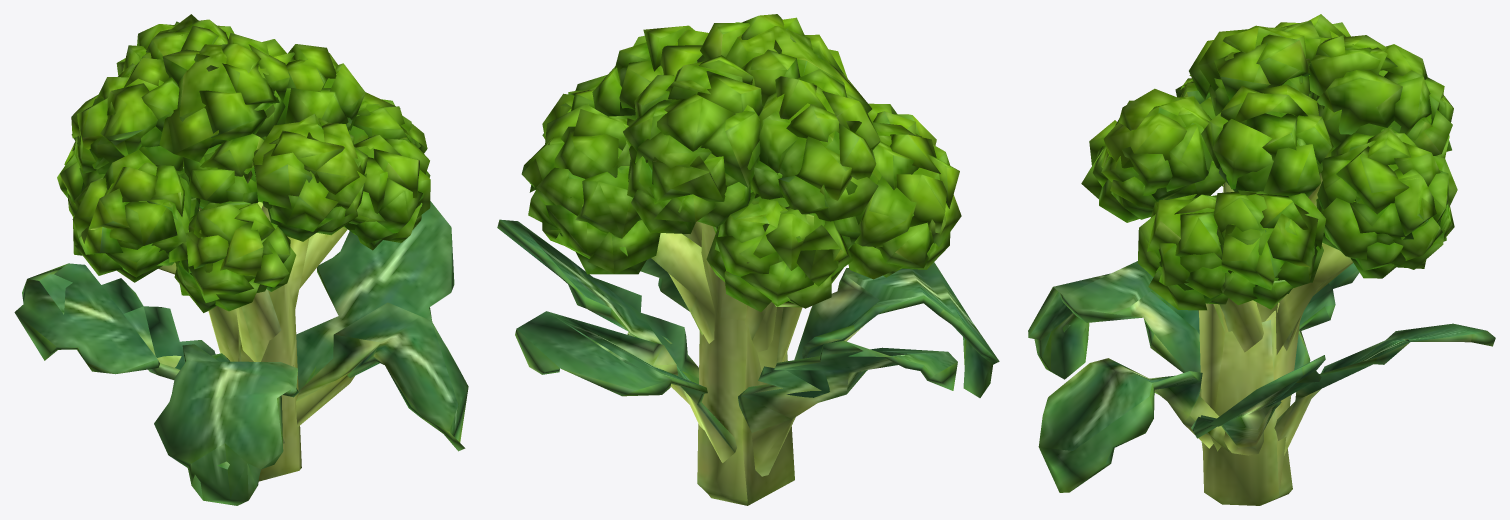
The model's file is crop_broccoli.glb.
3 renders of one model, left to right at view 1: azimuth 30°, elevation 25°; view 2: azimuth 150°, elevation 25°; view 3: azimuth 270°, elevation 25°, orthographic. The views are drawn at different scales.
Bounding box in the file's own units: 0.9945 × 1 × 0.937.
1 material, 1 textured.
